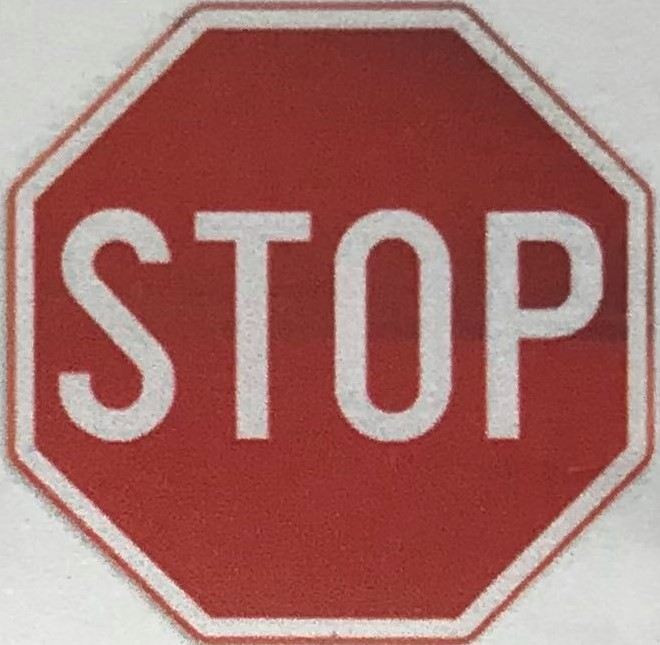stop-bord: (1, 1, 660, 637)
